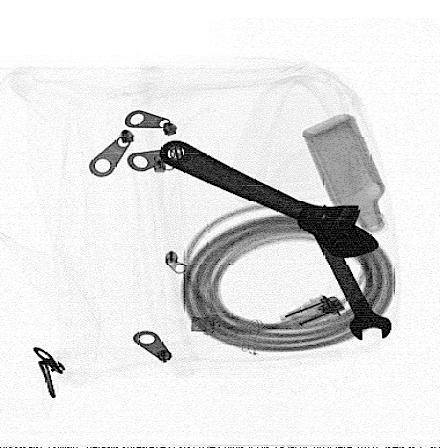Wrench: (158, 141, 380, 258), (300, 206, 393, 341)
